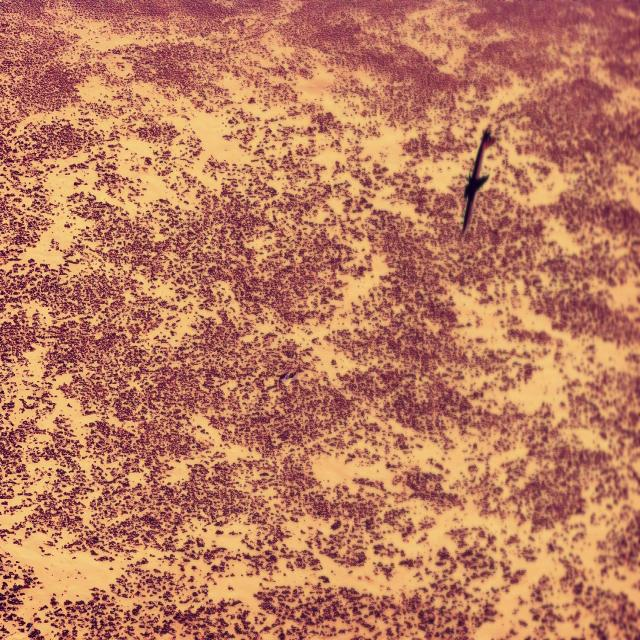airplane: (462, 127, 496, 234)
